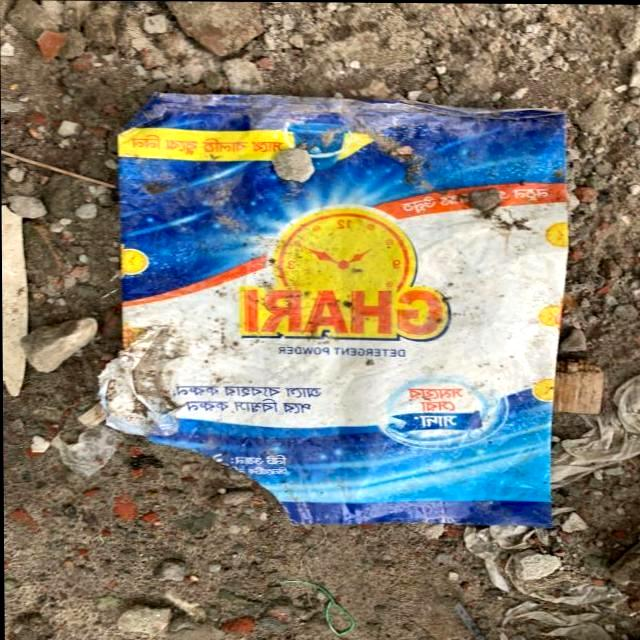packet: (85, 106, 573, 515)
